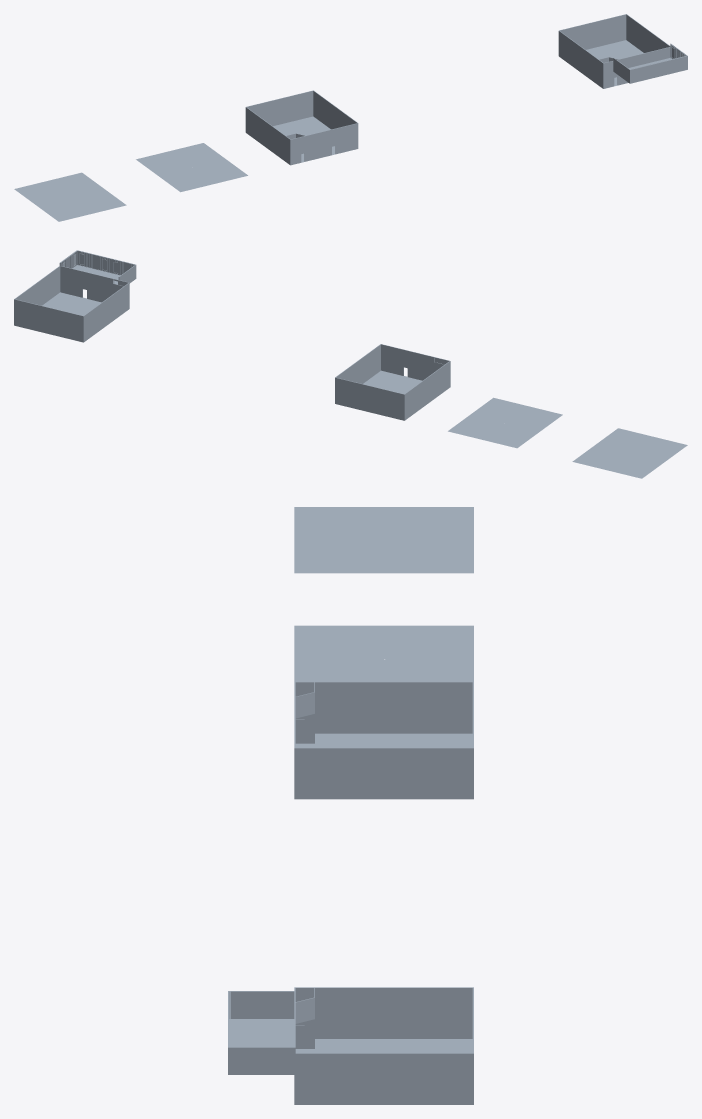
The model's file is mechanical-room.glb.
The picture shows the model from 3 angles, top to bottom: view 1: azimuth 30°, elevation 25°; view 2: azimuth 150°, elevation 25°; view 3: azimuth 270°, elevation 25°; orthographic projection. The views are drawn at different scales.
Parts seen in each view (by area): view 1: part_00; view 2: part_00; view 3: part_00.
Boxes of the visible parts, x1,y1,x2,y2 form: part_00: (14, 14, 687, 221); part_00: (14, 250, 687, 478); part_00: (228, 507, 473, 1104).
Size of the model in its own units: 156 by 6.98 by 27.16.
